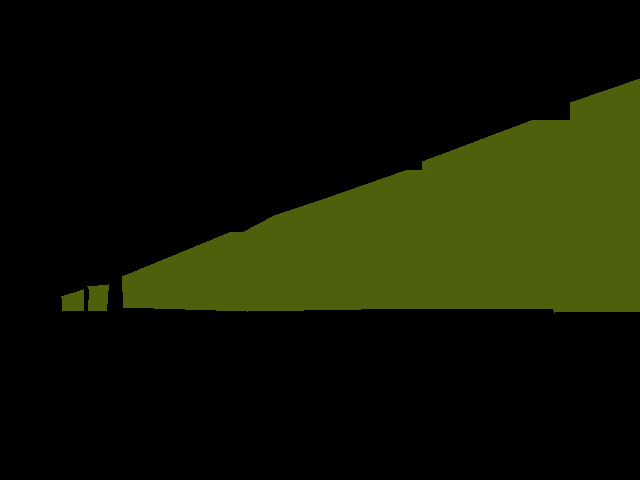Train: (61, 78, 640, 313)
